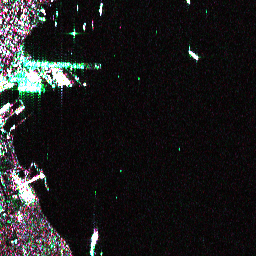ship: (87, 228, 100, 254), (186, 47, 200, 61), (96, 1, 105, 16)
